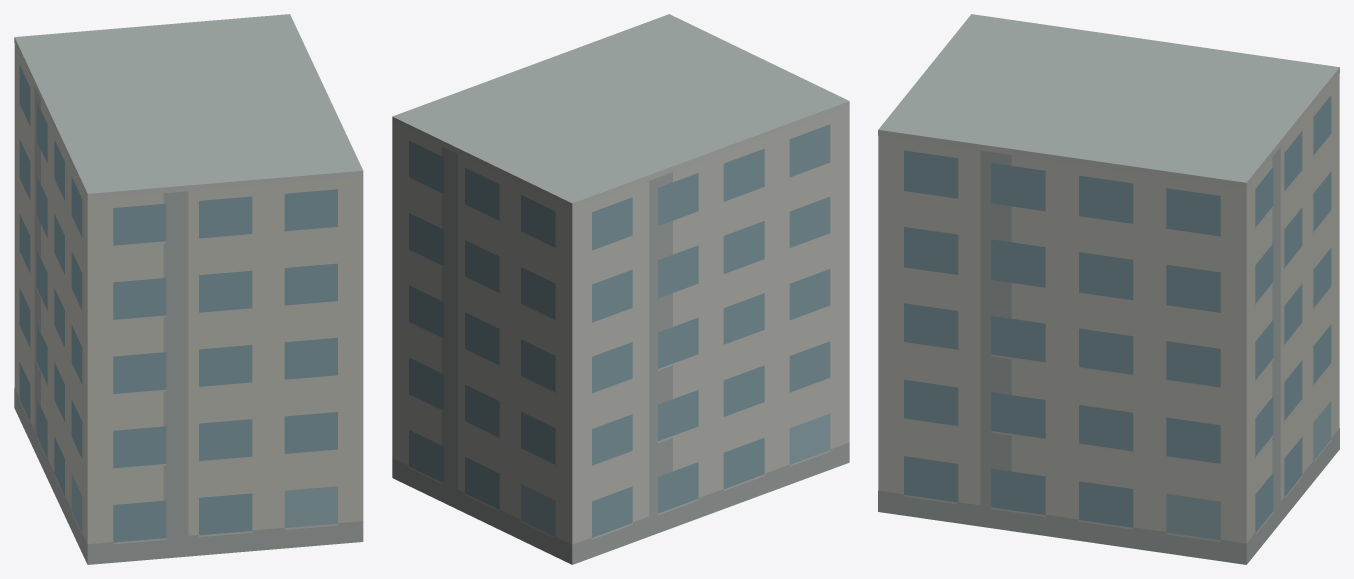
Rendered from residential-bc0758bd-0b9f-46b3-9d94-3741be207238.glb.
3 views of the same model, side by side, from view 1: azimuth 30°, elevation 25°; view 2: azimuth 150°, elevation 25°; view 3: azimuth 270°, elevation 25° (orthographic). The views are drawn at different scales.
Parts seen in each view (by area): view 1: residential-bc0758bd-0b9f-46b3-9d94-3741be207238.tmp; view 2: residential-bc0758bd-0b9f-46b3-9d94-3741be207238.tmp; view 3: residential-bc0758bd-0b9f-46b3-9d94-3741be207238.tmp.
Boxes of the visible parts, left/top/right/bottom form: residential-bc0758bd-0b9f-46b3-9d94-3741be207238.tmp: left=14, top=14, right=363, bottom=564; residential-bc0758bd-0b9f-46b3-9d94-3741be207238.tmp: left=392, top=14, right=849, bottom=564; residential-bc0758bd-0b9f-46b3-9d94-3741be207238.tmp: left=878, top=14, right=1339, bottom=564.
Bounding box in the file's own units: 14.46 × 15.25 × 16.71.
